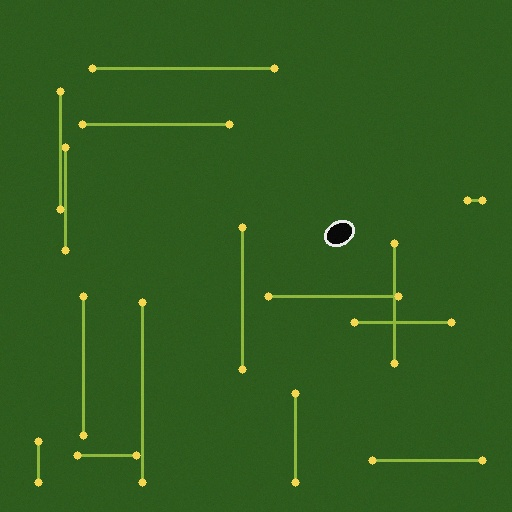hole: (322, 216, 356, 250)
